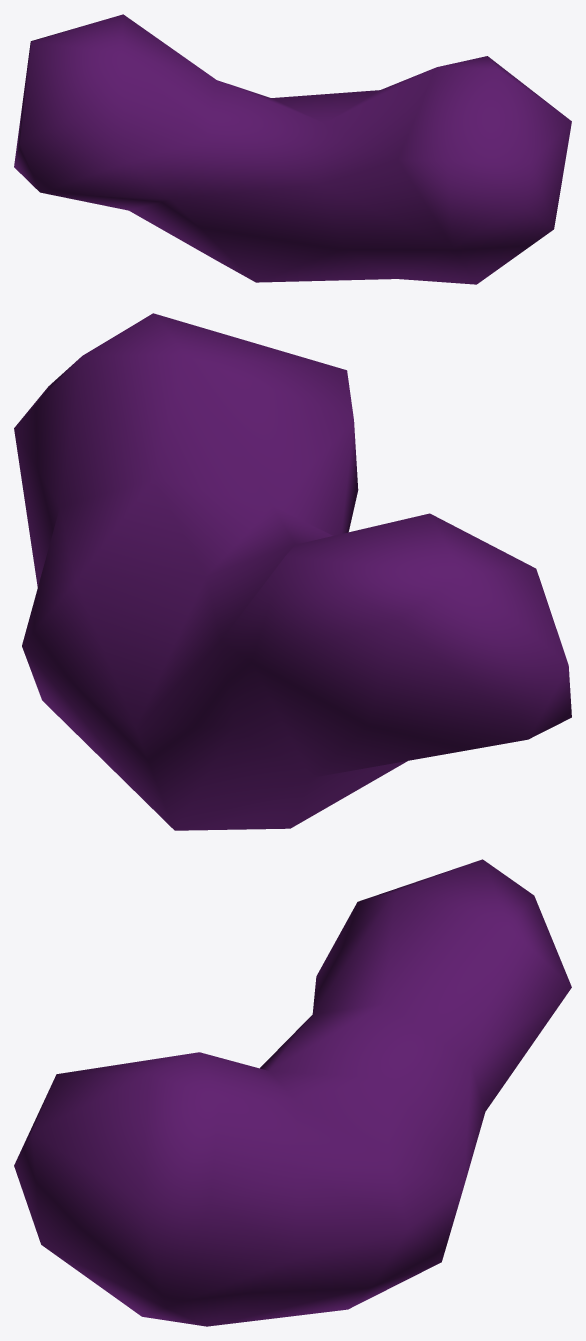
File: HIV1_SP2_hack_0_1_1.dae
3 renders of one model, top to bottom at view 1: azimuth 30°, elevation 25°; view 2: azimuth 150°, elevation 25°; view 3: azimuth 270°, elevation 25°, orthographic. The views are drawn at different scales.
Parts seen in each view (by area): view 1: CoarseMS_HIV1_SP2_hack_0_1_0; view 2: CoarseMS_HIV1_SP2_hack_0_1_0; view 3: CoarseMS_HIV1_SP2_hack_0_1_0.
Boxes of the visible parts, x1,y1,x2,y2 form: CoarseMS_HIV1_SP2_hack_0_1_0: (14,14,571,284); CoarseMS_HIV1_SP2_hack_0_1_0: (14,313,571,830); CoarseMS_HIV1_SP2_hack_0_1_0: (14,859,571,1326).
Size of the model in its own units: 0.3286 by 0.1778 by 0.288.
